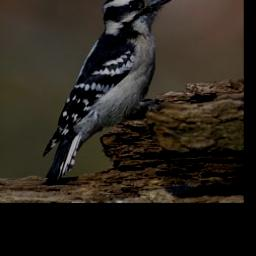Woodpecker: (42, 0, 176, 188)
